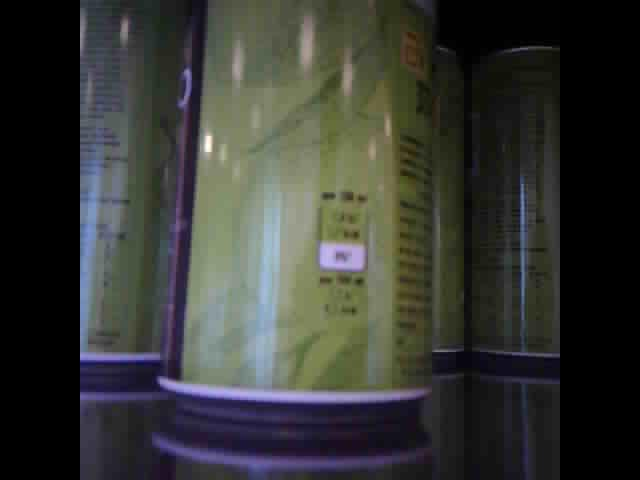schweppes: (152, 1, 434, 409), (80, 4, 174, 375), (473, 19, 559, 371), (430, 47, 463, 368)
